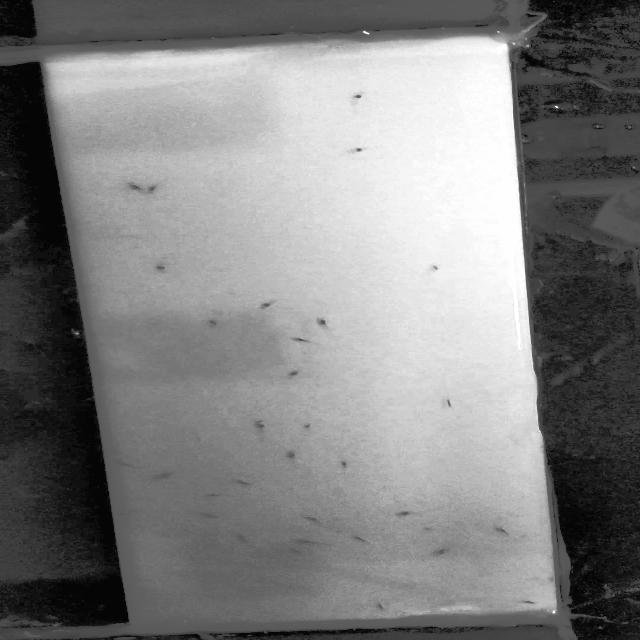shrimp: (290, 334, 324, 349), (143, 180, 172, 197), (296, 511, 331, 525), (367, 597, 398, 612), (346, 93, 374, 109), (344, 142, 381, 154), (492, 524, 518, 540), (293, 536, 326, 548), (392, 510, 422, 522), (112, 508, 141, 520), (200, 316, 226, 329), (348, 535, 376, 547), (311, 318, 335, 332), (124, 180, 151, 192), (257, 296, 280, 310), (236, 533, 262, 545), (298, 421, 318, 434), (434, 544, 453, 557), (232, 477, 259, 486), (424, 263, 446, 274), (257, 420, 274, 434), (154, 472, 178, 481), (115, 459, 139, 468), (282, 450, 303, 460), (336, 459, 353, 471), (520, 596, 540, 606), (152, 263, 172, 273), (445, 396, 459, 410), (198, 510, 222, 518), (282, 370, 306, 378), (201, 492, 224, 500), (288, 545, 308, 553), (99, 446, 115, 454)
